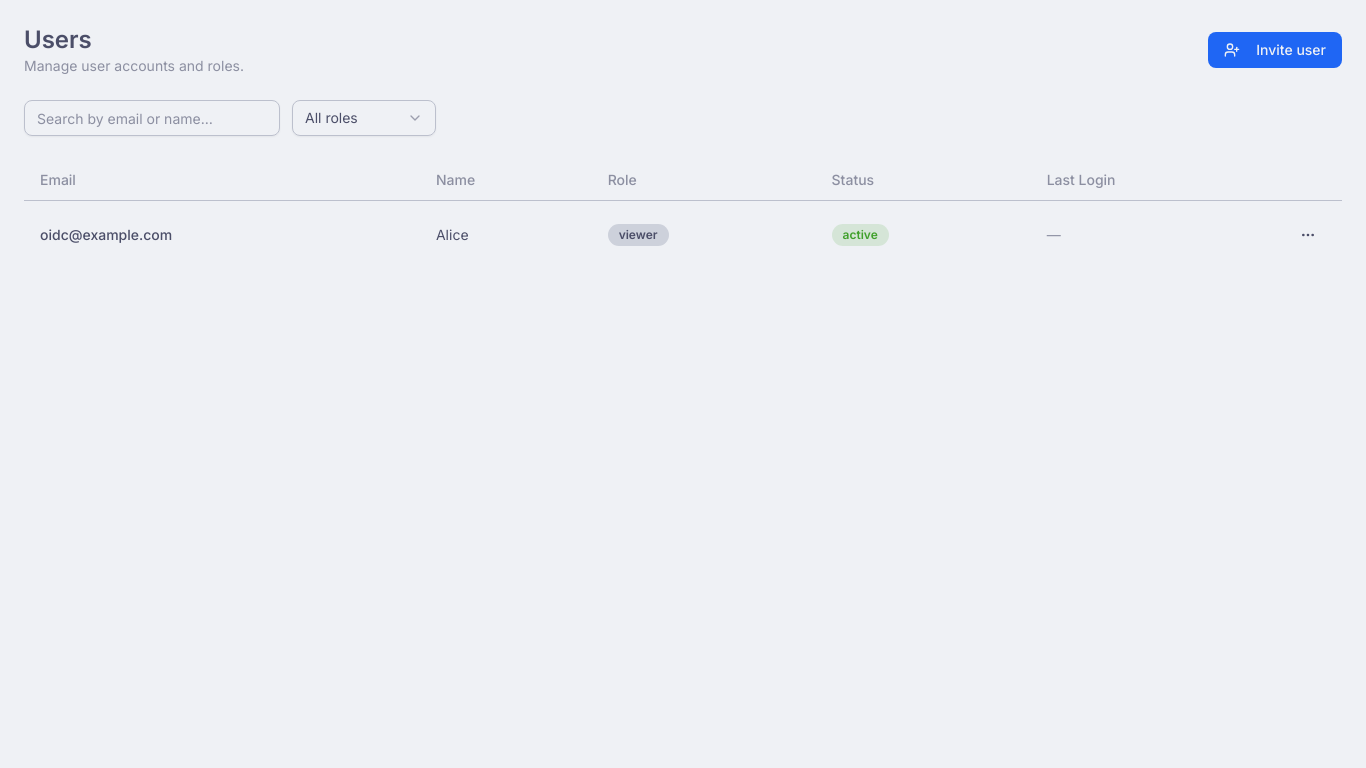
UsersPage › offers no password reset for OIDC users, and opens the role dialog from the row action
Click the button named "Actions for oidc@example.com".
click(1308, 234)  # box [1290,216,1326,252]
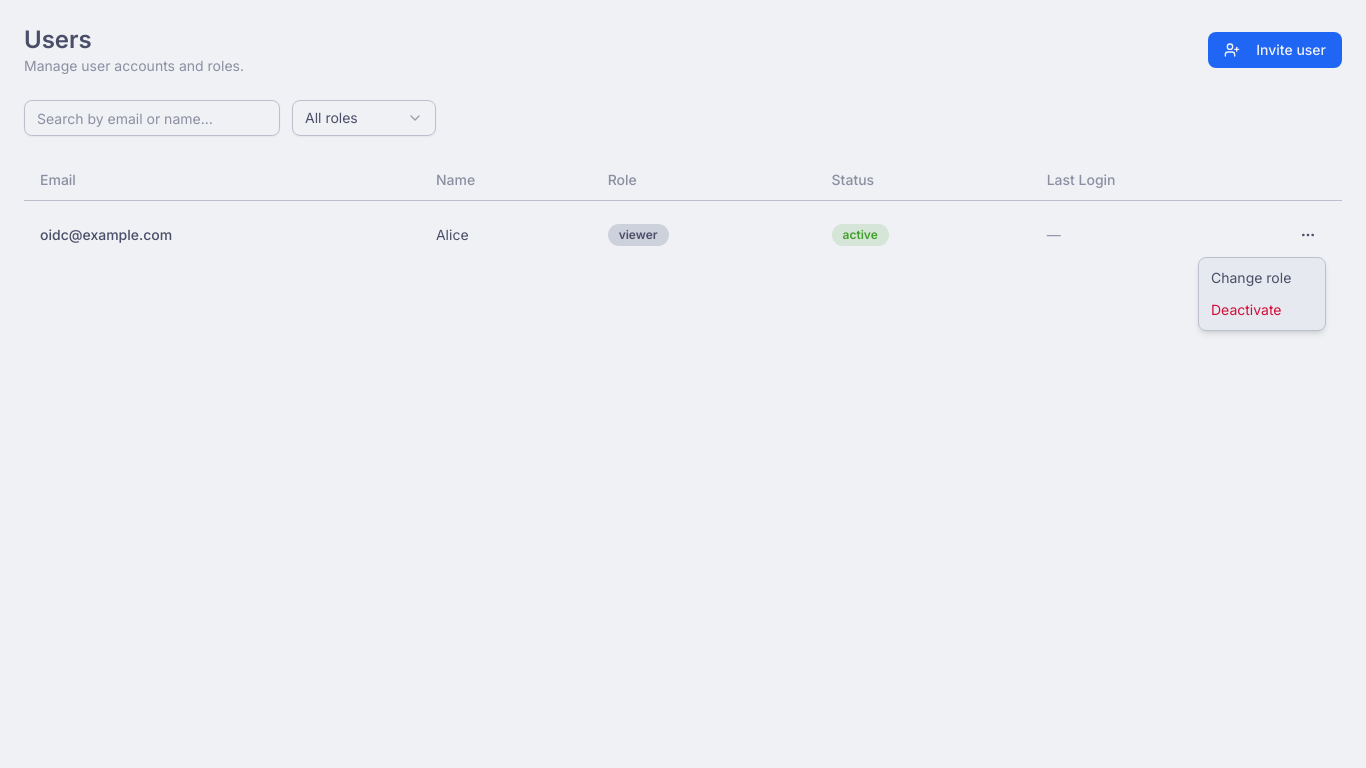
Click the menu item "Change role".
click(1251, 278)  # box [1211,269,1291,286]
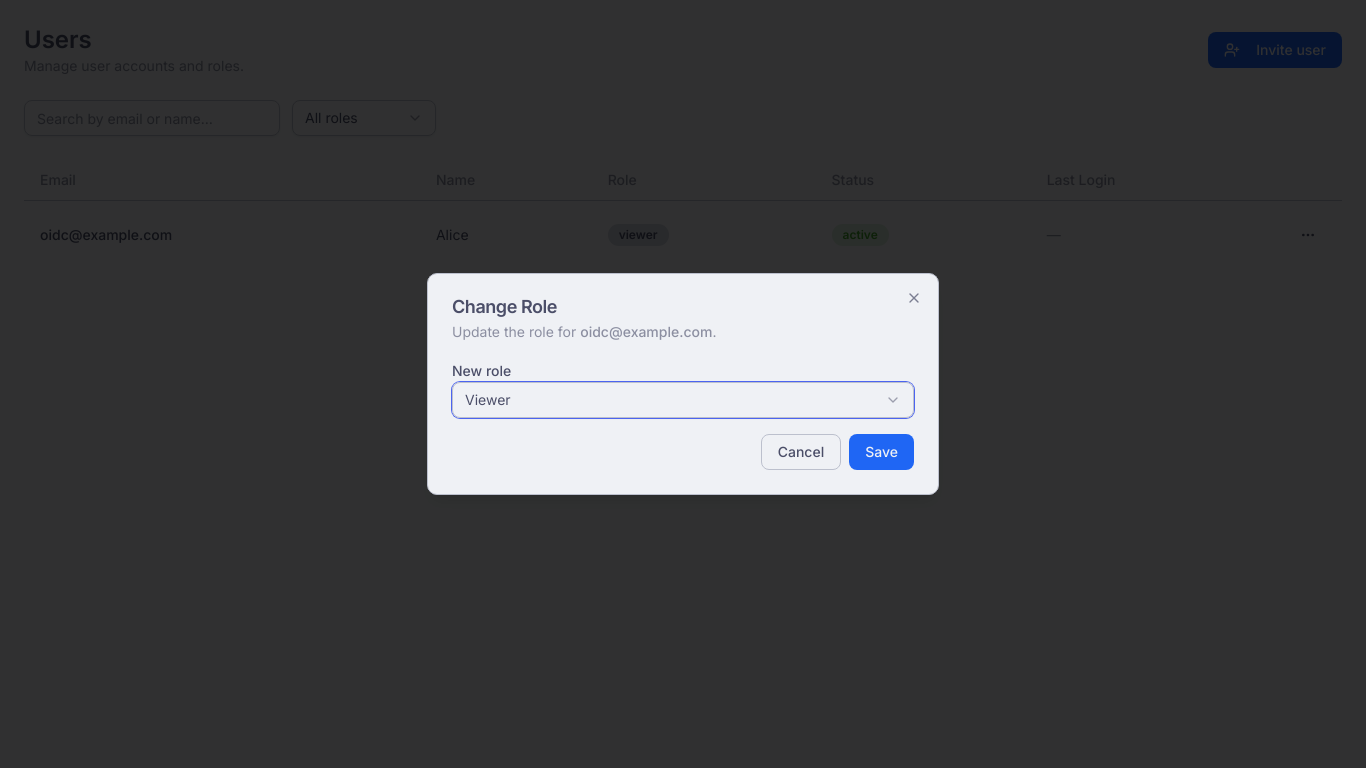
Result: the dialog shows "Change Role" at [452,296,557,317]
